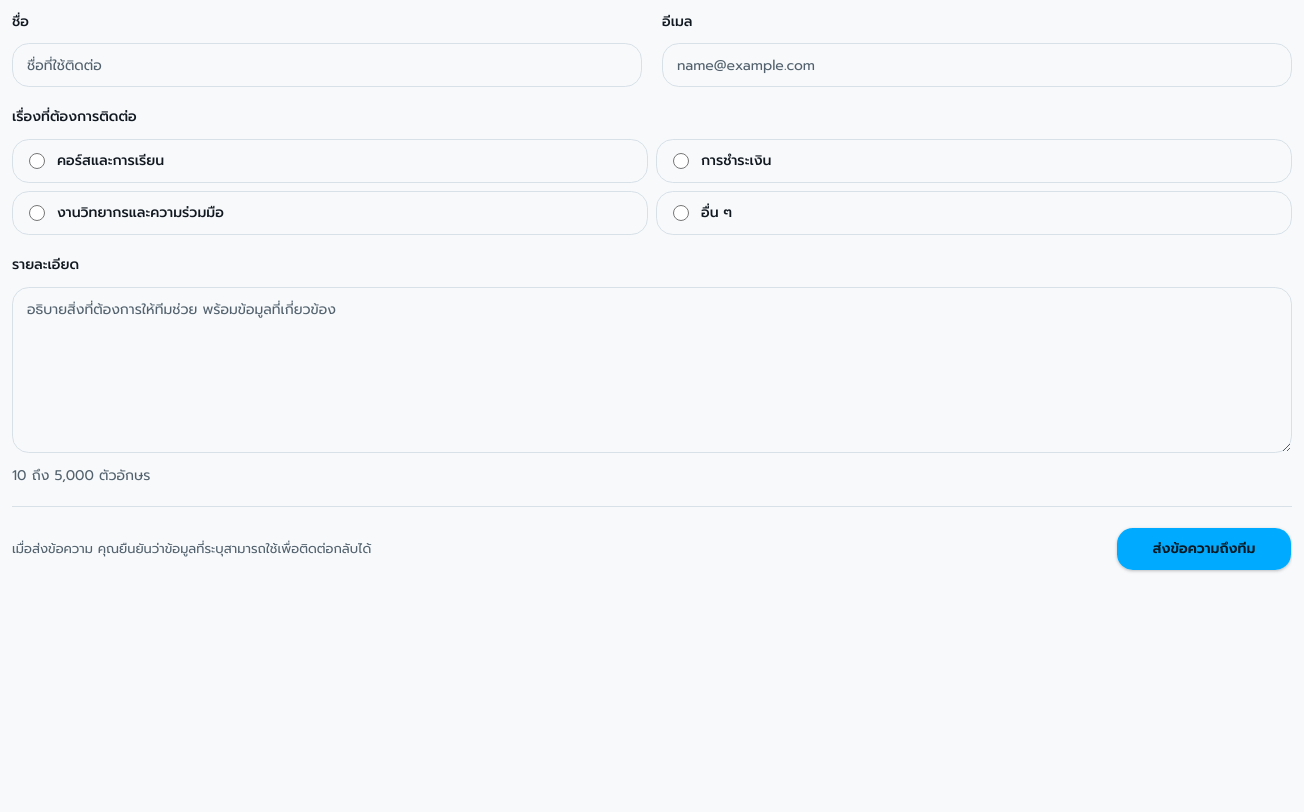
Test: Contact form topics and member details › asks a visitor with a payment question for the course and date instead
Click the radio button labelled "การชำระเงิน".
click(681, 161)  # box [673,153,689,169]
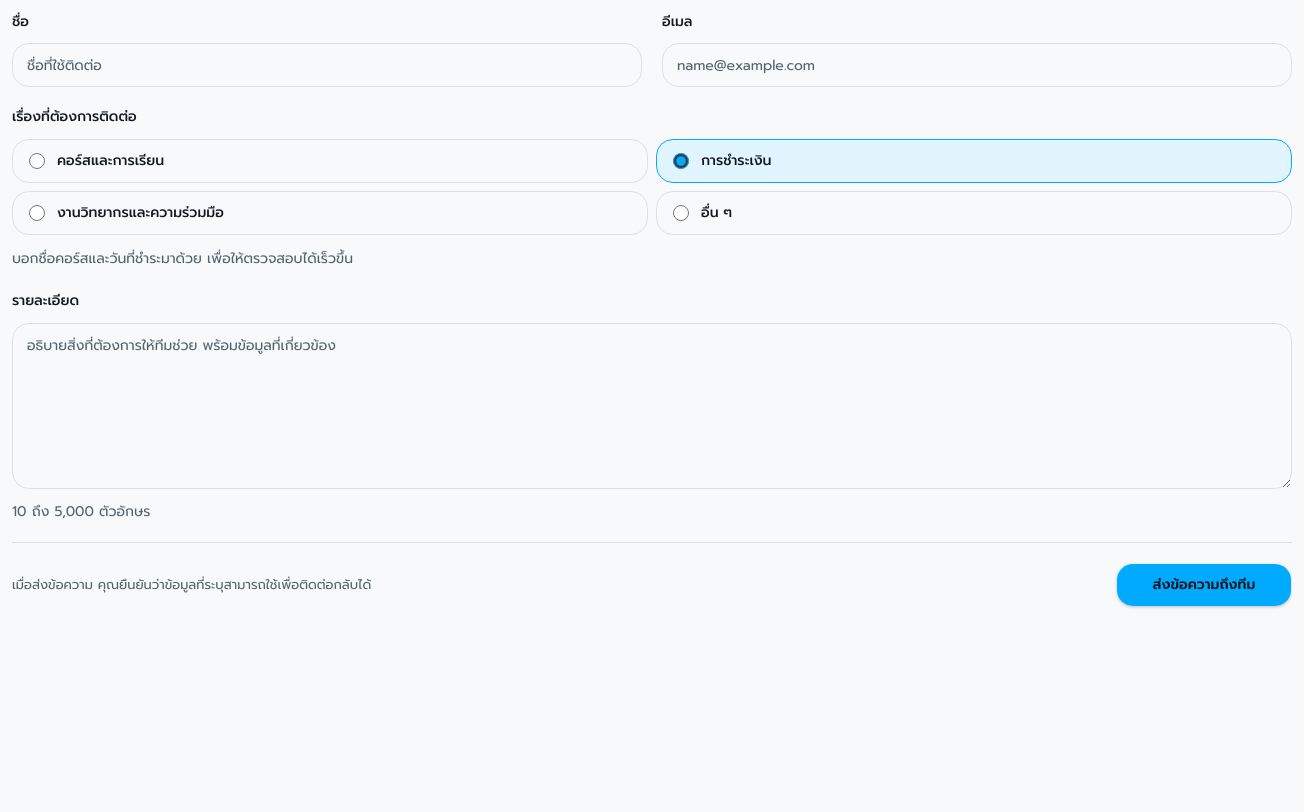
Result: the text "บอกชื่อคอร์สและวันที่ชำระมาด้วย เพื่อให้ตรวจสอบได้เร็วขึ้น" is shown at [12,248,353,269]
